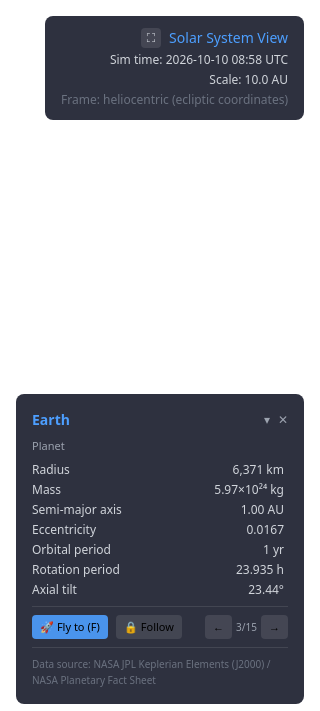
Scenario: HudInfo 信息面板收起/展开 › en 态收起/展开按钮 aria 标签为英文
This screenshot has width=320, height=711.
Click the button named "Collapse info panel content".
click(267, 420)  # box [264,412,270,428]
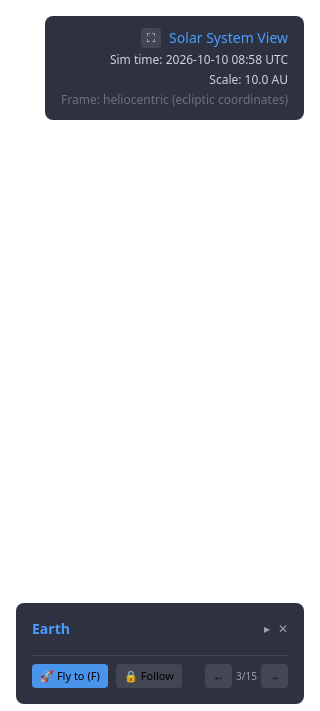
Result: the button named "Expand info panel content" is shown at [264,621,270,637]
